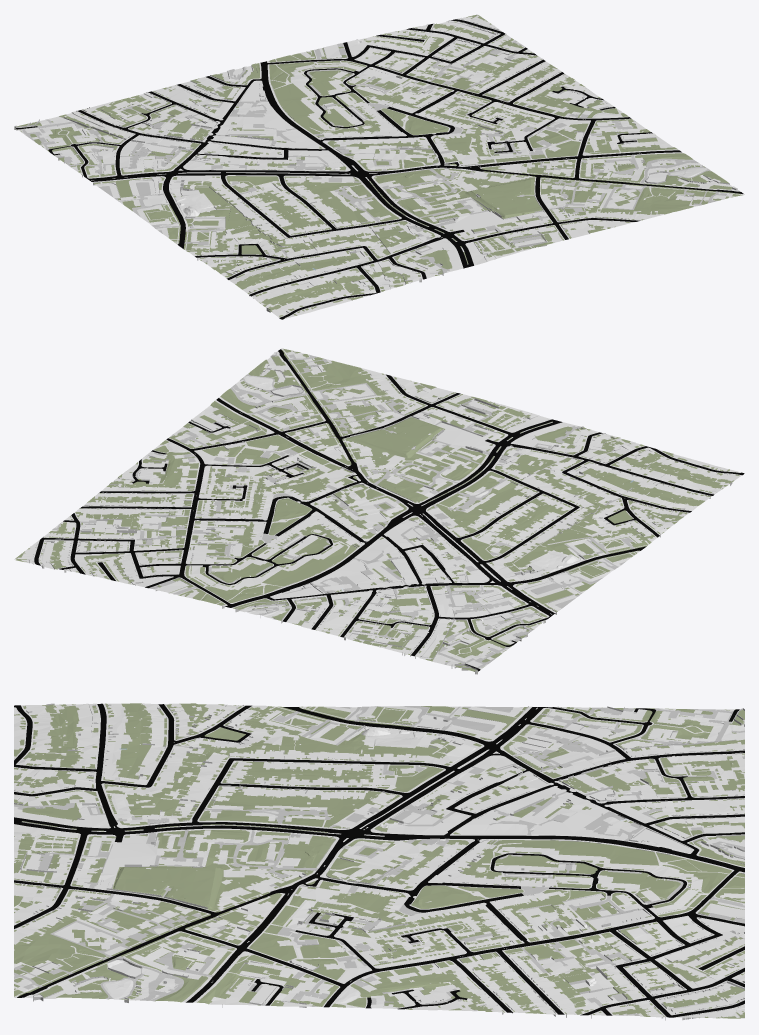
File: TQ3073_Terrain_LOD_1_draco.glb
The picture shows the model from 3 angles, top to bottom: view 1: azimuth 30°, elevation 25°; view 2: azimuth 150°, elevation 25°; view 3: azimuth 270°, elevation 25°; orthographic projection. The views are drawn at different scales.
Parts seen in each view (by area): view 1: TQ3073_Terrain; view 2: TQ3073_Terrain; view 3: TQ3073_Terrain.
Part boxes in pixels (bbox=[...]): TQ3073_Terrain: bbox=[14, 14, 744, 319]; TQ3073_Terrain: bbox=[14, 348, 744, 674]; TQ3073_Terrain: bbox=[14, 703, 744, 1020].
Bounding box in the file's own units: 1000 × 39.55 × 1000.
Materials: 1 (1 with a texture image).
